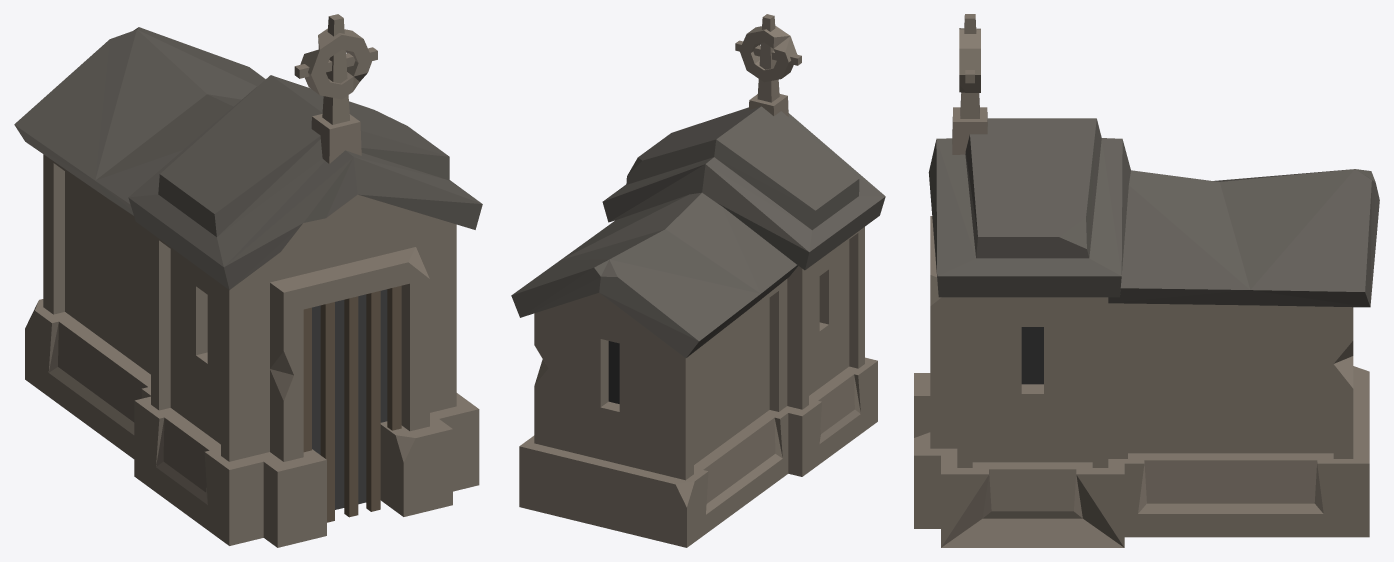
File: SM_Prop_Grave_05.glb
3 renders of one model, left to right at view 1: azimuth 30°, elevation 25°; view 2: azimuth 150°, elevation 25°; view 3: azimuth 270°, elevation 25°, orthographic. The views are drawn at different scales.
Parts seen in each view (by area): view 1: SM_Prop_Grave_05_part00; view 2: SM_Prop_Grave_05_part00; view 3: SM_Prop_Grave_05_part00.
Boxes of the visible parts, left/top/right/bottom form: SM_Prop_Grave_05_part00: left=14, top=14, right=482, bottom=547; SM_Prop_Grave_05_part00: left=511, top=14, right=885, bottom=547; SM_Prop_Grave_05_part00: left=914, top=14, right=1379, bottom=547.
Size of the model in its own units: 2.34 by 4.21 by 3.77.
Materials: 1 (1 with a texture image).
